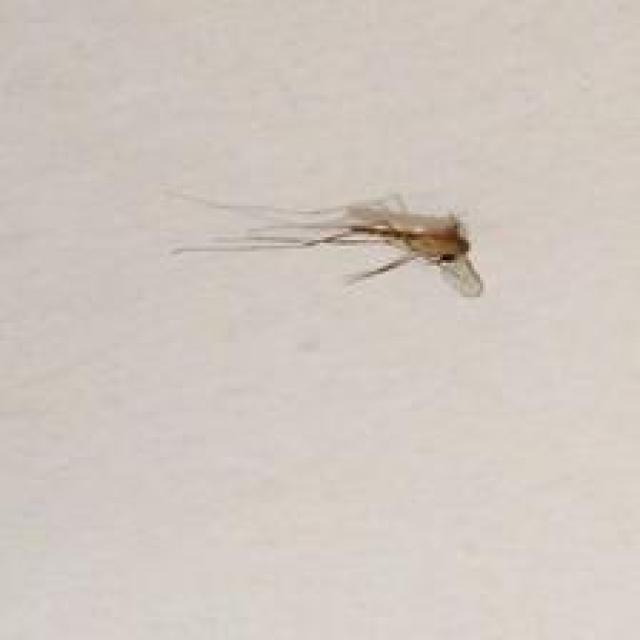Culex: (165, 186, 484, 300)
